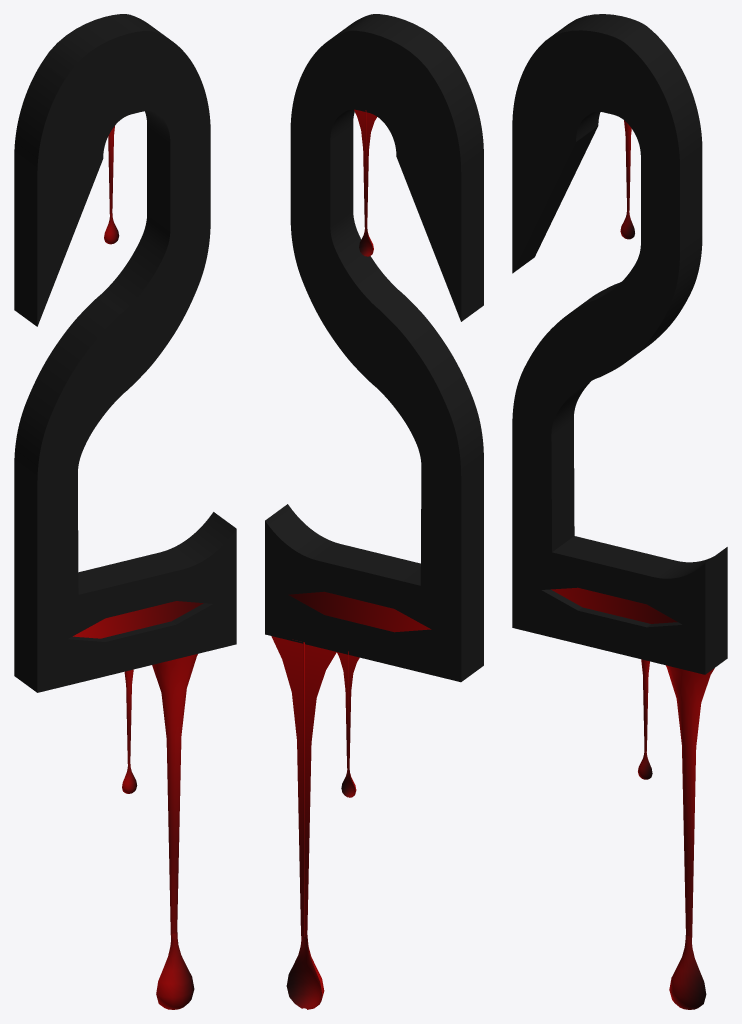
3 views of the same model, side by side, from view 1: azimuth 30°, elevation 25°; view 2: azimuth 150°, elevation 25°; view 3: azimuth 330°, elevation 25° (orthographic). The views are drawn at different scales.
Parts seen in each view (by area): view 1: 2, Blood_116, 2_Element, Blood_117, Blood_115; view 2: 2, Blood_116, 2_Element, Blood_115, Blood_117; view 3: 2, Blood_116, 2_Element, Blood_117, Blood_115.
Part boxes in pixels (x1,y1,x2,y2): 2: (14, 14, 236, 692); Blood_116: (152, 654, 197, 1009); 2_Element: (73, 601, 203, 638); Blood_117: (122, 669, 137, 793); Blood_115: (104, 126, 119, 244); 2: (265, 14, 483, 682); Blood_116: (271, 636, 336, 1009); 2_Element: (288, 591, 431, 632); Blood_115: (354, 109, 376, 256); Blood_117: (337, 651, 359, 797); 2: (512, 14, 727, 674); Blood_116: (666, 665, 714, 1009); 2_Element: (551, 587, 677, 623); Blood_117: (638, 659, 652, 779); Blood_115: (620, 120, 634, 239).
Bounding box in the file's own units: 24.83 × 120 × 5.05.
Materials: 2 (1 with a texture image).
